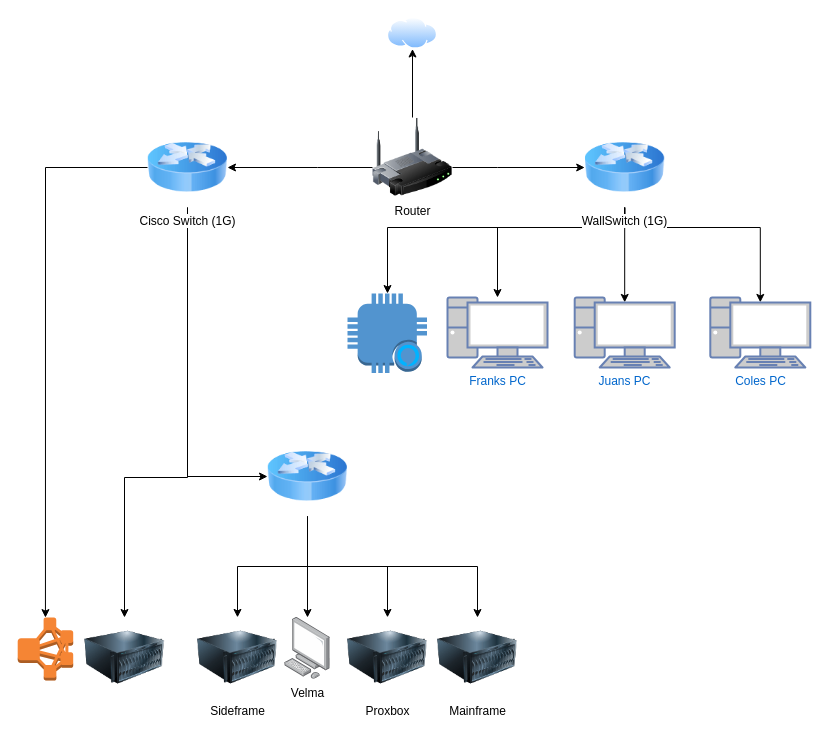
The diagram is 829 pixels wide and 735 high, and some of its shapes have lost their labels. The centre of each missing label's shape, as x and y in pixels:
"Cluster" goes at (45,649).
"DeskSwitch (1G)" goes at (307,476).
"Internet" goes at (412,32).
"Other" goes at (386,332).
"Proxnuc" goes at (124,657).
